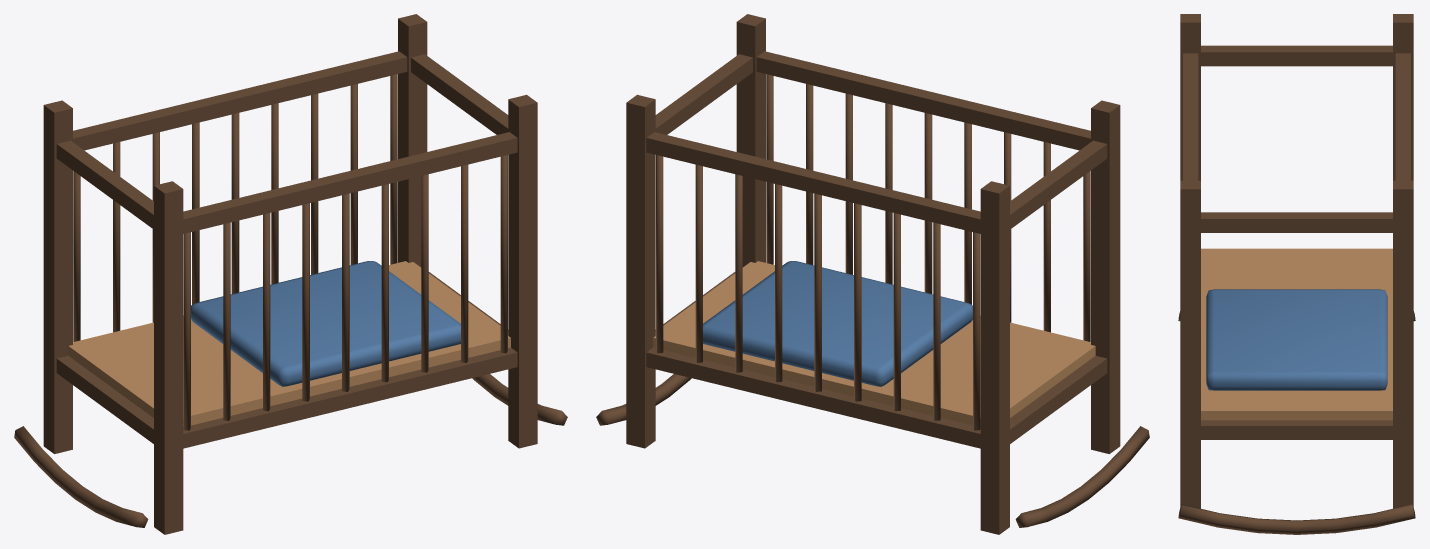
File: crib.glb
3 views of the same model, side by side, from view 1: azimuth 30°, elevation 25°; view 2: azimuth 150°, elevation 25°; view 3: azimuth 270°, elevation 25° (orthographic). The views are drawn at different scales.
Parts seen in each view (by area): view 1: crib; view 2: crib; view 3: crib.
Part boxes in pixels (x1=…): crib: x1=14, y1=14, x2=567, y2=534; crib: x1=596, y1=14, x2=1149, y2=534; crib: x1=1178, y1=14, x2=1415, y2=534.
Bounding box in the file's own units: 0.9271 × 0.7093 × 0.4572.
